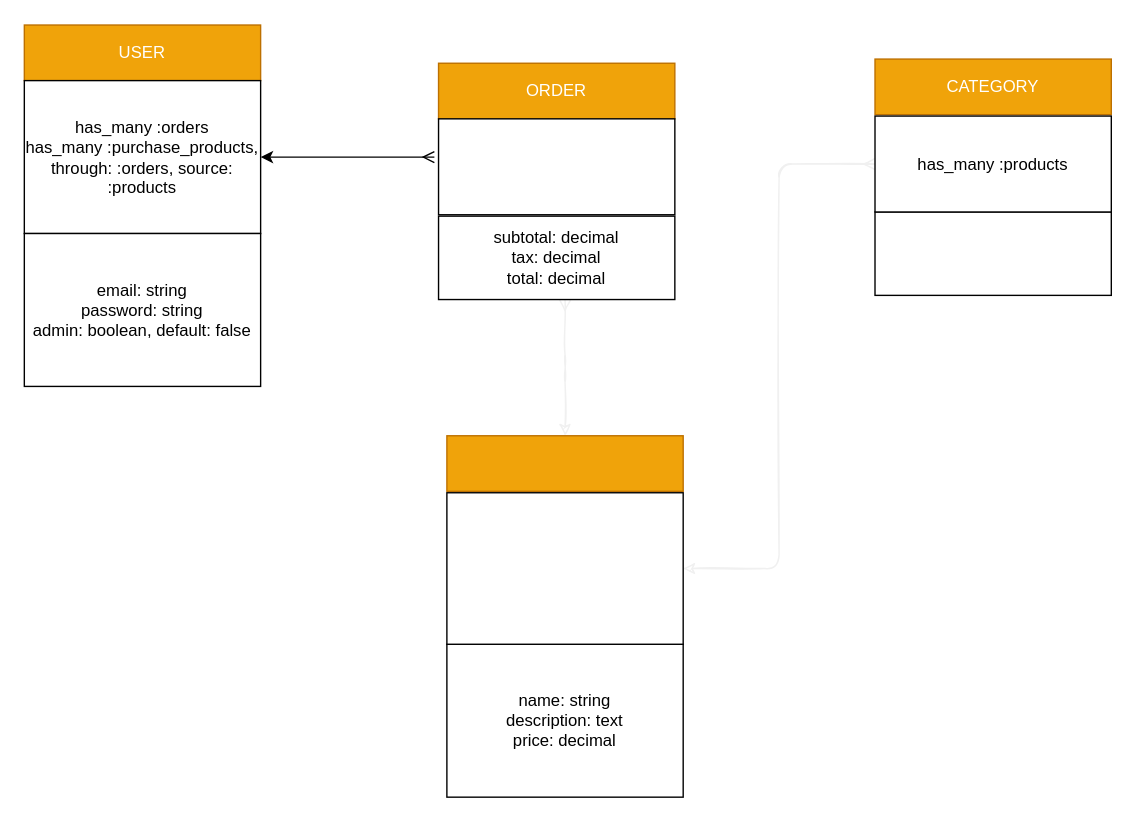
Image size: 1136x821. Some labels were removed from this diagram. Here are the shapes that lost their labels. From the top down, the centre of each, then its label:
point 556,166: belongs_to :user belongs_to :product
point 992,253: name: string description: text
point 564,462: PRODUCT
point 564,567: belongs_to :category has_many :orders has_many :users, through: :orders
